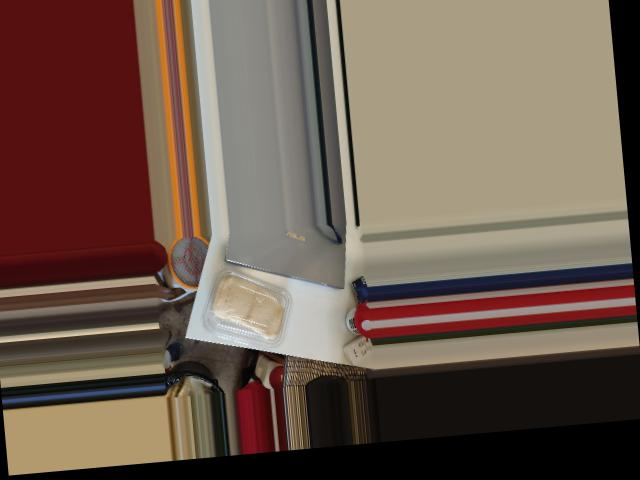cheese: (191, 262, 299, 354)
